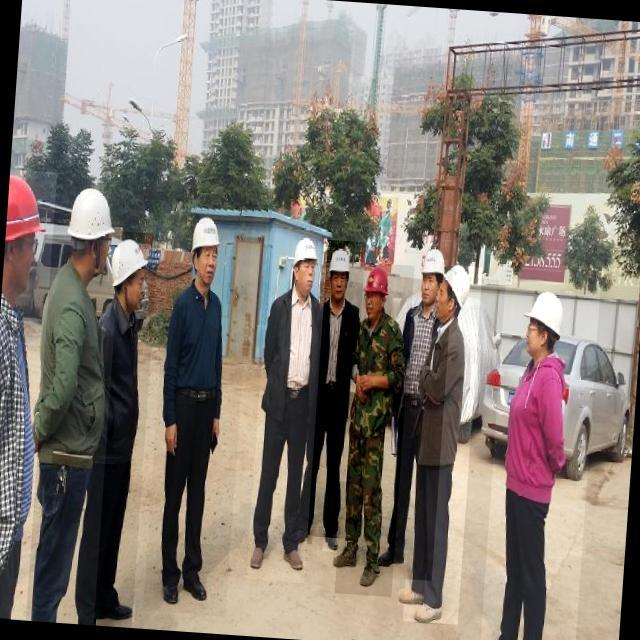Helmet: (66, 186, 115, 242), (520, 290, 567, 341), (7, 175, 40, 246), (110, 239, 151, 290), (441, 264, 474, 311), (193, 216, 225, 254), (292, 235, 320, 271), (365, 267, 393, 296), (420, 247, 448, 276), (327, 250, 352, 281)
Person: (30, 154, 109, 640), (494, 249, 581, 640), (394, 253, 483, 632), (327, 250, 408, 601), (248, 224, 324, 583), (163, 204, 228, 618), (97, 217, 156, 638), (383, 235, 447, 596), (0, 160, 46, 628), (312, 219, 363, 574)
Safety Boot: (96, 601, 135, 622), (182, 575, 211, 603), (332, 545, 361, 570), (414, 602, 445, 625), (360, 556, 382, 588), (379, 545, 406, 568), (282, 546, 306, 570), (163, 578, 184, 605), (398, 588, 427, 606), (250, 545, 266, 569), (322, 531, 340, 552), (295, 527, 313, 544)
bare-arms: (348, 364, 382, 412), (159, 420, 184, 465), (208, 412, 229, 446)
no-vest: (39, 258, 108, 507), (0, 290, 38, 588), (505, 358, 575, 504), (89, 301, 142, 478), (415, 324, 471, 473), (262, 287, 323, 417), (165, 289, 224, 405), (353, 319, 407, 423), (400, 303, 437, 403), (322, 294, 359, 392)
